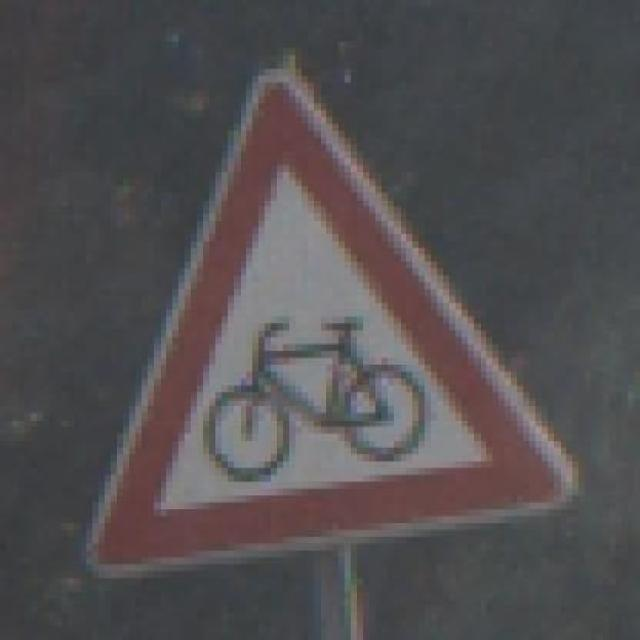CYCLE ROUTE AHEAD WARNING: (56, 48, 584, 586)
